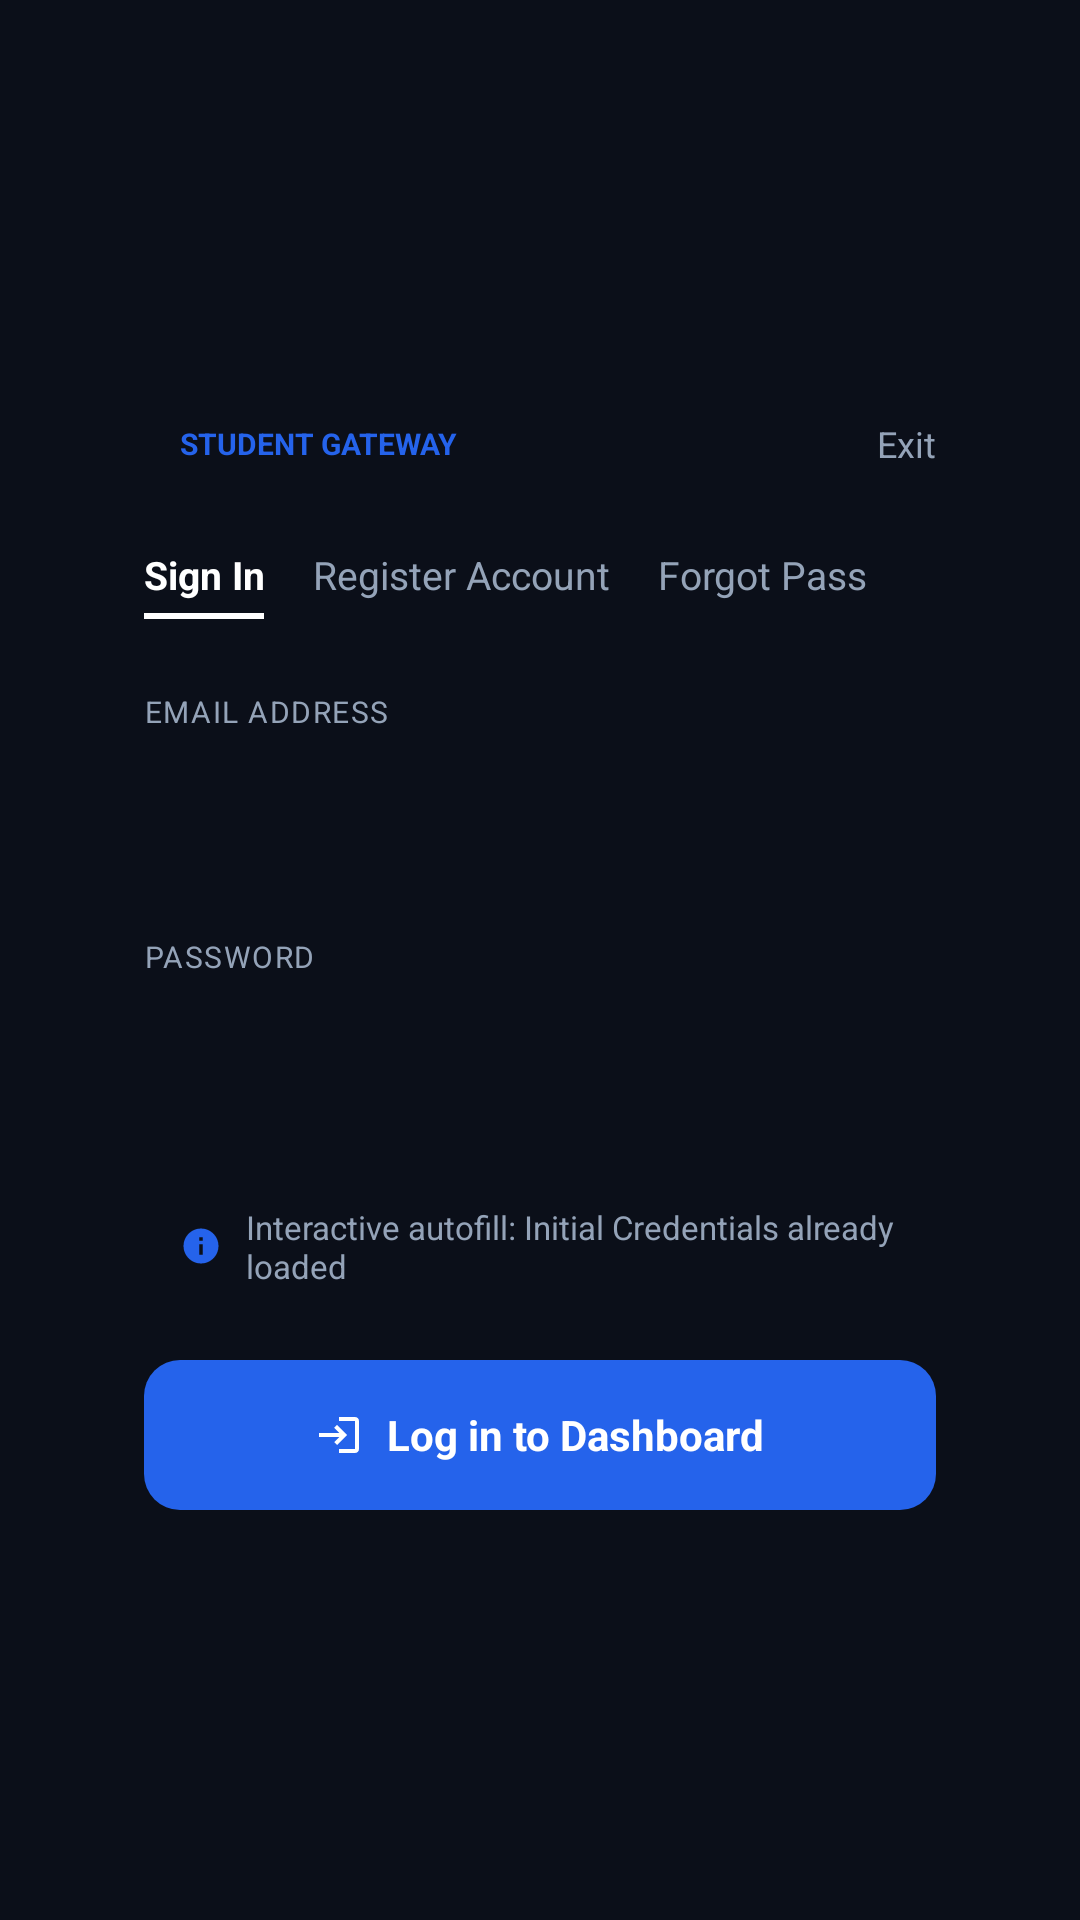

Screen size 1080 x 1920. Icon name, then its center in pixels as (x,y):
info: (201,1246)
